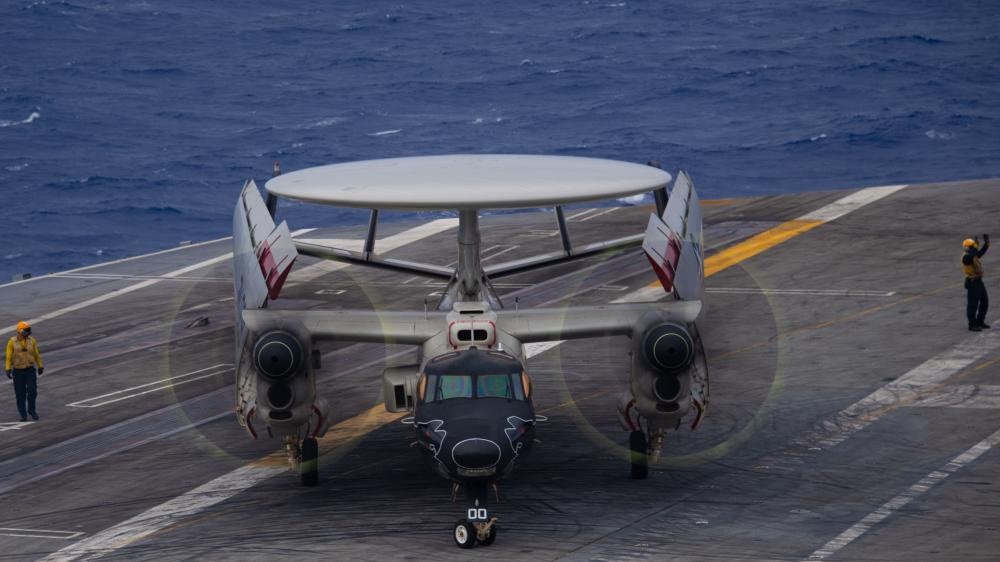E2: (160, 154, 790, 549)
